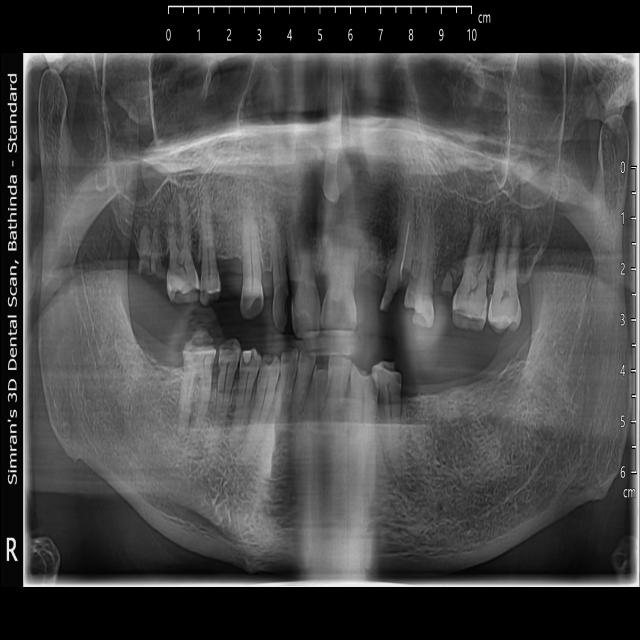Caries: (169, 256, 201, 306), (375, 355, 406, 397), (182, 329, 215, 368), (350, 360, 379, 403), (270, 286, 290, 341), (216, 339, 240, 377), (242, 281, 264, 316), (403, 303, 428, 327), (260, 351, 280, 379), (284, 292, 289, 321)
Filling: (242, 350, 259, 377)
Missing teeth: (407, 362, 500, 419), (148, 337, 180, 395), (219, 212, 240, 289), (359, 244, 375, 304)
Root Canal Treatment: (381, 194, 413, 305)
Root Piece: (138, 226, 164, 278), (314, 369, 331, 418), (439, 268, 454, 297)
